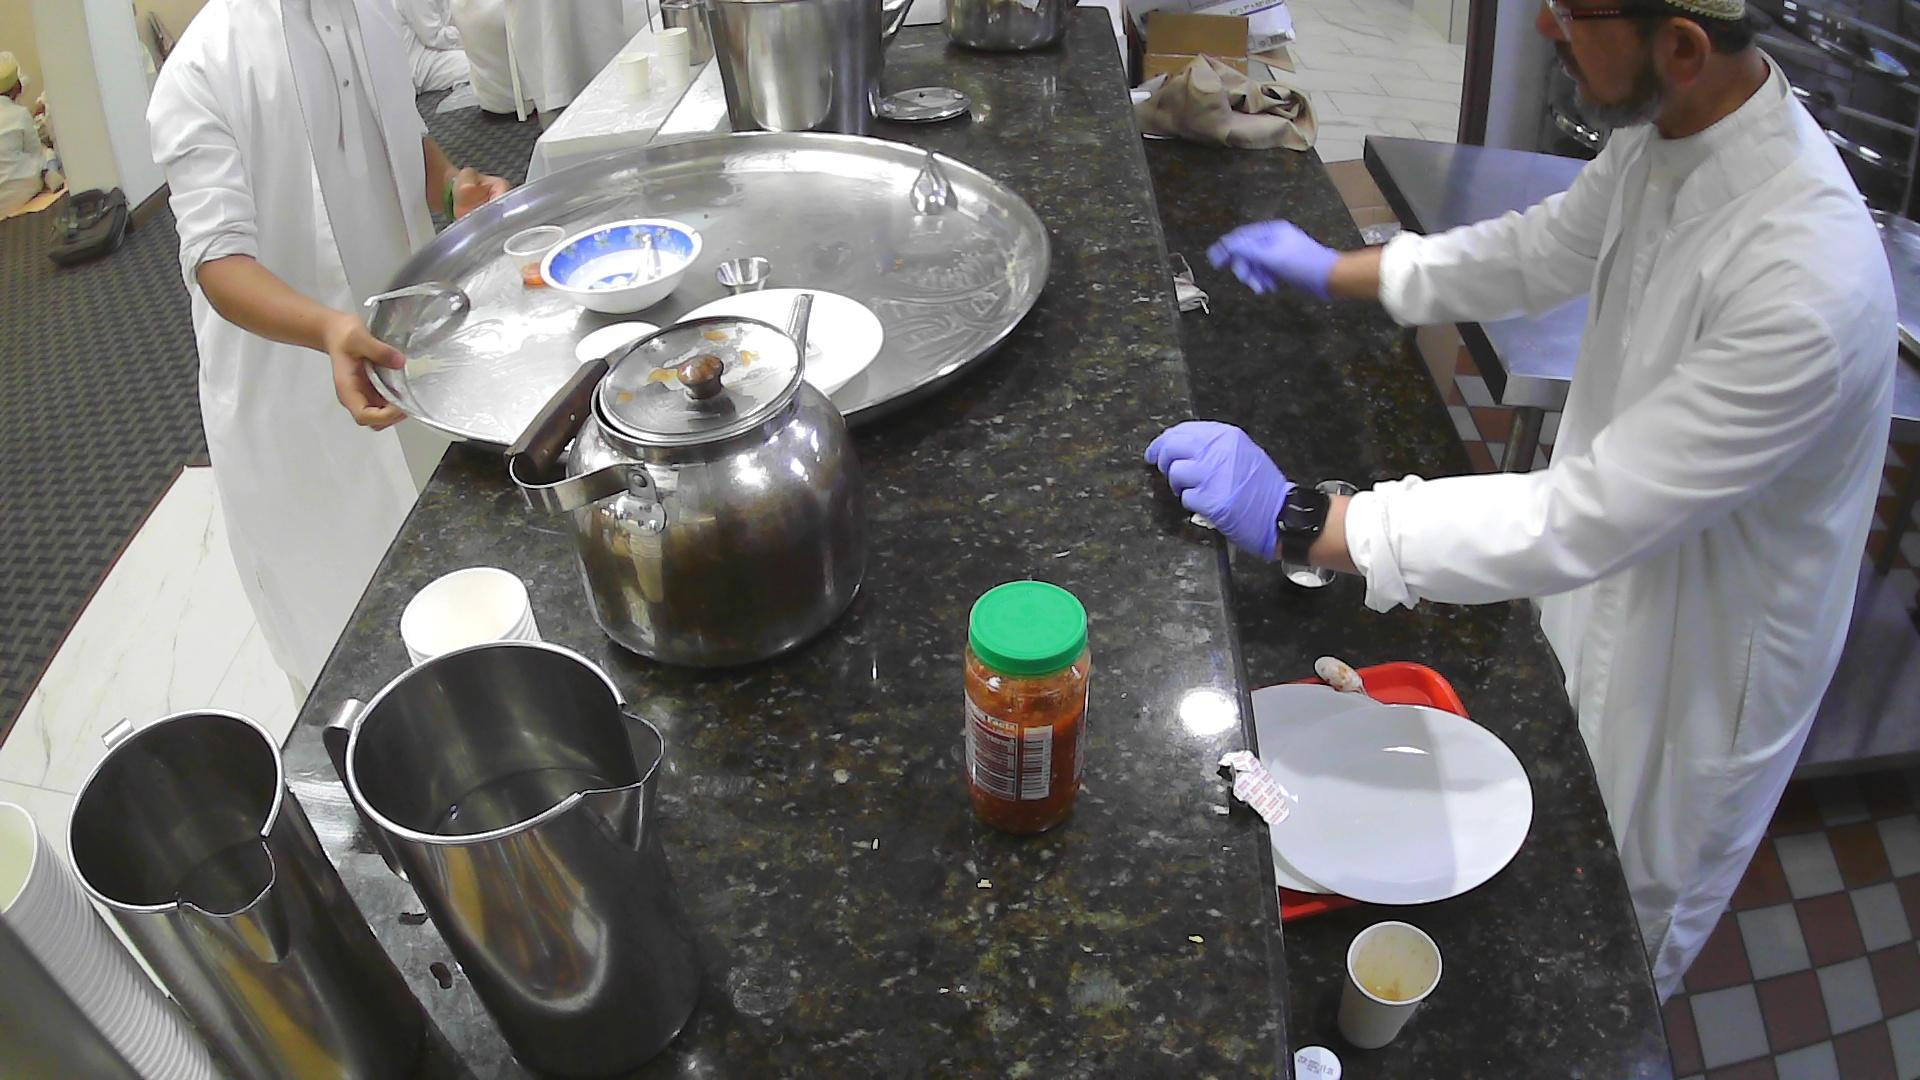thaal: (352, 127, 1058, 459)
